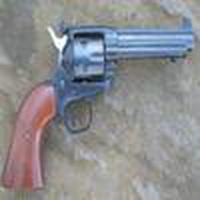gun: (6, 28, 198, 187)
